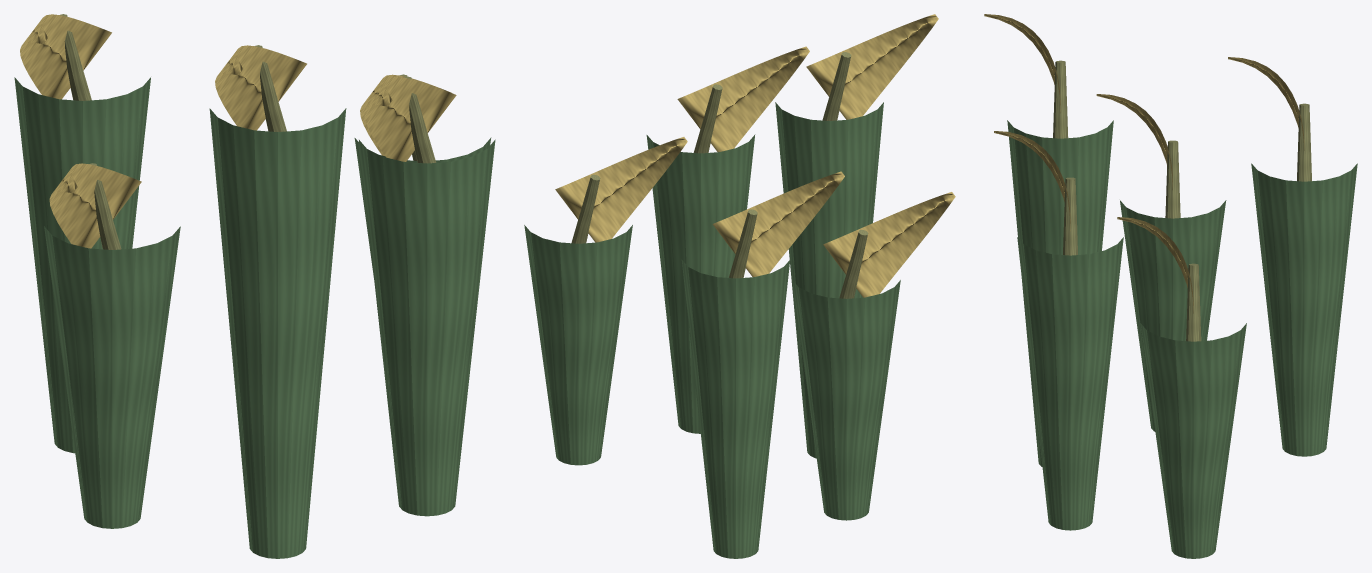
File: carnivorous_pitcher_clump_swamp_and_mangrove_22668.glb
3 views of the same model, side by side, from view 1: azimuth 30°, elevation 25°; view 2: azimuth 150°, elevation 25°; view 3: azimuth 270°, elevation 25° (orthographic). The views are drawn at different scales.
Parts seen in each view (by area): view 1: pitcher-plants; view 2: pitcher-plants; view 3: pitcher-plants.
Part boxes in pixels (x1=…): pitcher-plants: x1=14, y1=14, x2=495, y2=558; pitcher-plants: x1=524, y1=14, x2=955, y2=558; pitcher-plants: x1=984, y1=14, x2=1357, y2=558.
Size of the model in its own units: 0.6687 by 0.7228 by 0.5869.
3 materials, 3 textured.
